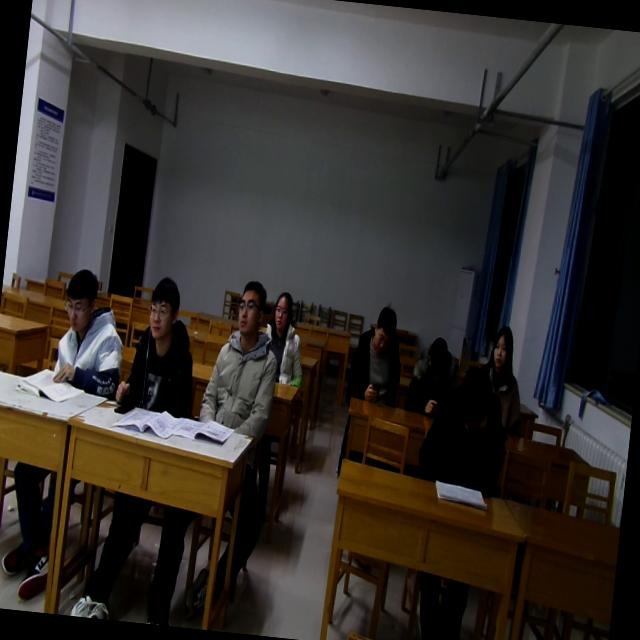bow: (415, 359, 515, 493)
down: (56, 263, 104, 342), (450, 358, 493, 434), (368, 305, 399, 359), (423, 334, 452, 386)
lookup: (144, 277, 183, 345), (233, 274, 270, 342), (488, 323, 517, 375), (270, 286, 294, 334)
sit: (195, 272, 288, 440), (112, 272, 202, 419), (47, 265, 132, 402), (343, 302, 410, 406), (476, 325, 530, 438), (402, 328, 464, 417), (262, 289, 310, 388)
